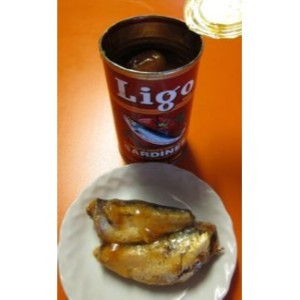sardine_brain food: (95, 189, 205, 289)
